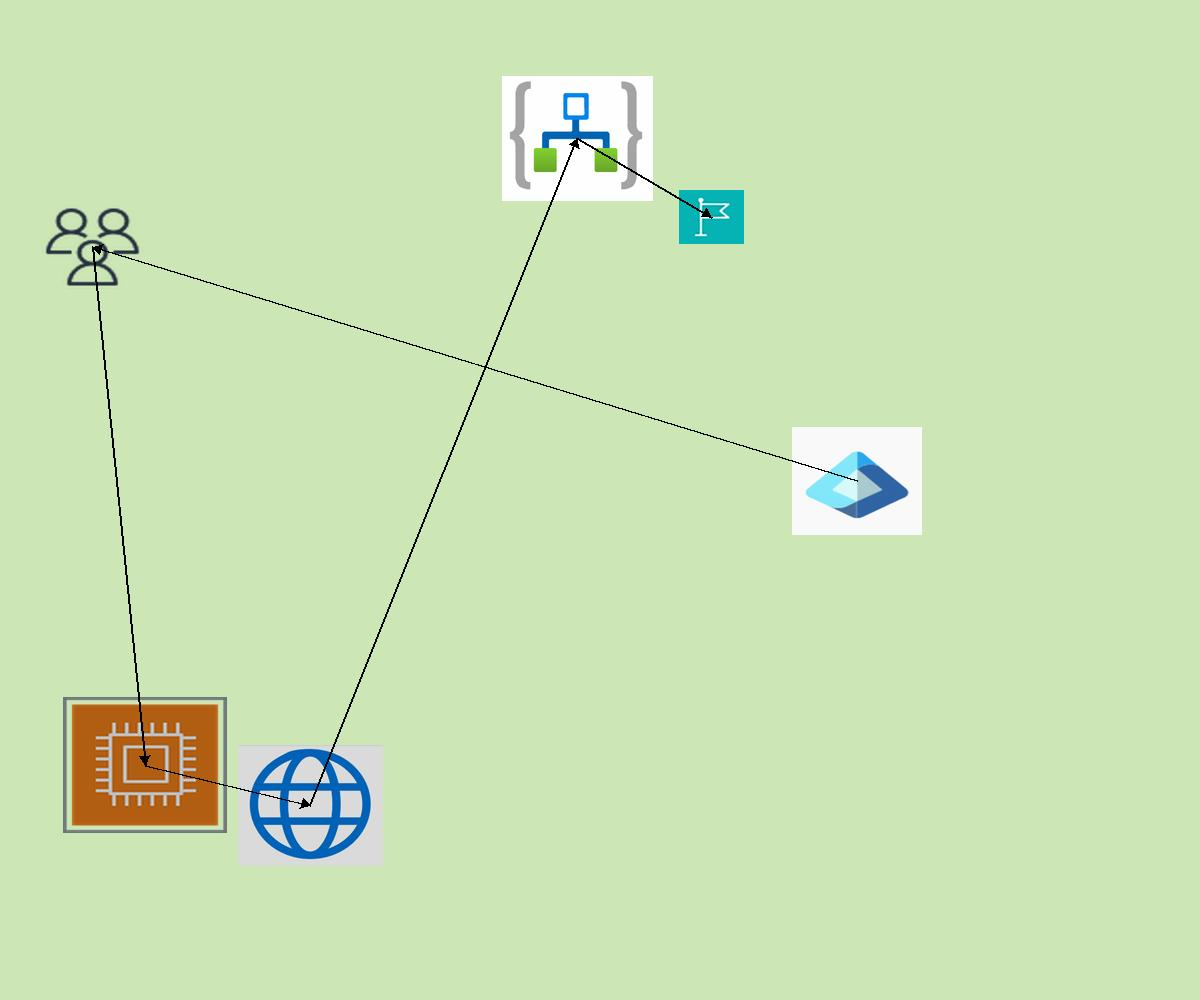AWS-Category_Compute: (63, 697, 227, 833)
AWS-Region: (679, 190, 744, 244)
AWS-Res_Users: (42, 205, 143, 289)
Azure_http: (238, 745, 383, 866)
Azure_integration-204-Logic-Apps: (502, 76, 653, 201)
Azure_microsoft_entra: (792, 427, 922, 535)
